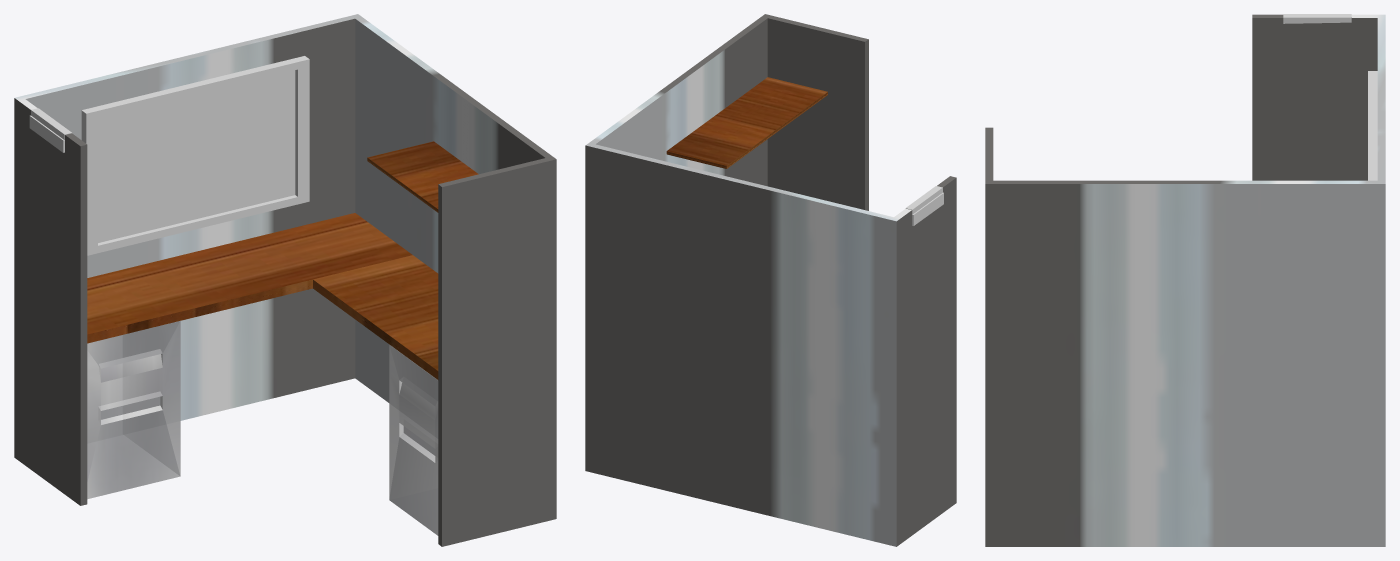
Rendered from desk.fbx.
3 views of the same model, side by side, from view 1: azimuth 30°, elevation 25°; view 2: azimuth 150°, elevation 25°; view 3: azimuth 270°, elevation 25° (orthographic). The views are drawn at different scales.
Parts seen in each view (by area): view 1: Desk panels, desk, corkborder, drawer2, corkboard, drawer2.001, shelf, nametag; view 2: Desk panels, shelf, nametag; view 3: Desk panels, corkboard, nametag.
Part boxes in pixels (<box>): Desk panels: <box>14,14,556,546</box>; desk: <box>87,213,438,379</box>; corkborder: <box>98,70,295,242</box>; drawer2: <box>87,321,180,499</box>; corkboard: <box>81,56,309,255</box>; drawer2.001: <box>389,344,438,535</box>; shelf: <box>367,141,478,212</box>; nametag: <box>29,108,71,152</box>; Desk panels: <box>585,14,956,546</box>; shelf: <box>666,77,827,168</box>; nametag: <box>905,186,943,225</box>; Desk panels: <box>985,14,1385,546</box>; corkboard: <box>1368,71,1377,180</box>; nametag: <box>1283,14,1351,23</box>.
Bounding box in the file's own units: 201 × 200 × 200.
